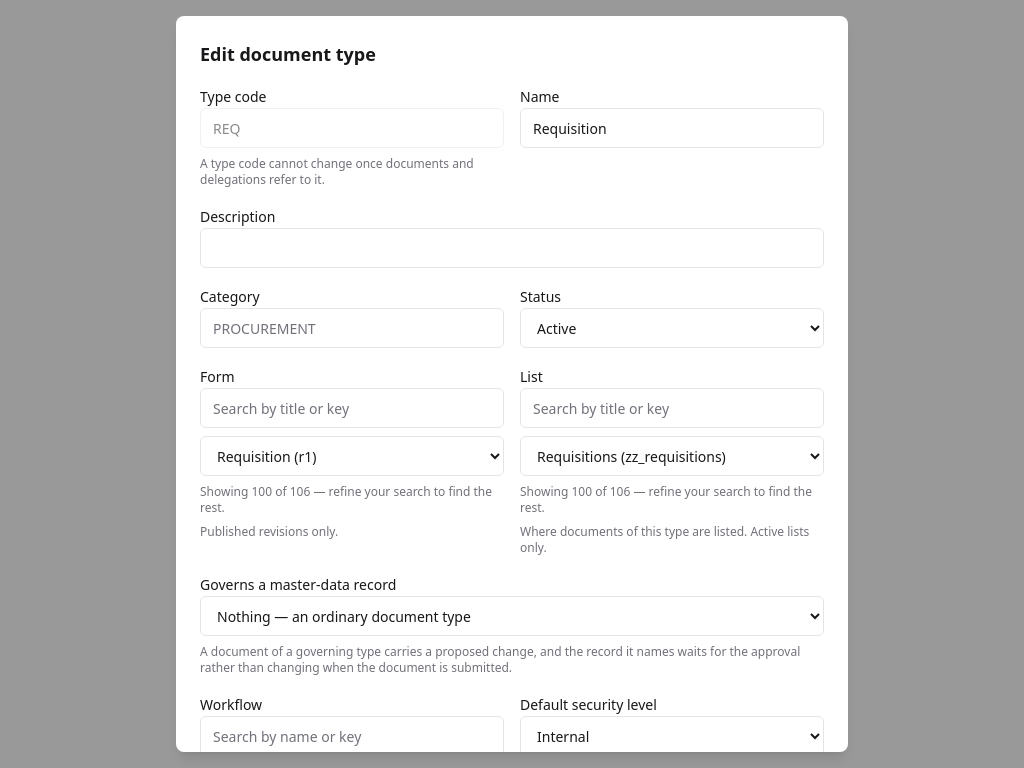
it: DocumentTypeFormDialog choosers › places a refusal of the name under the name, as before
Clear the field with test id "type-name". click: (672, 128)
box: 520,108 -> 824,148
(page scrolled)
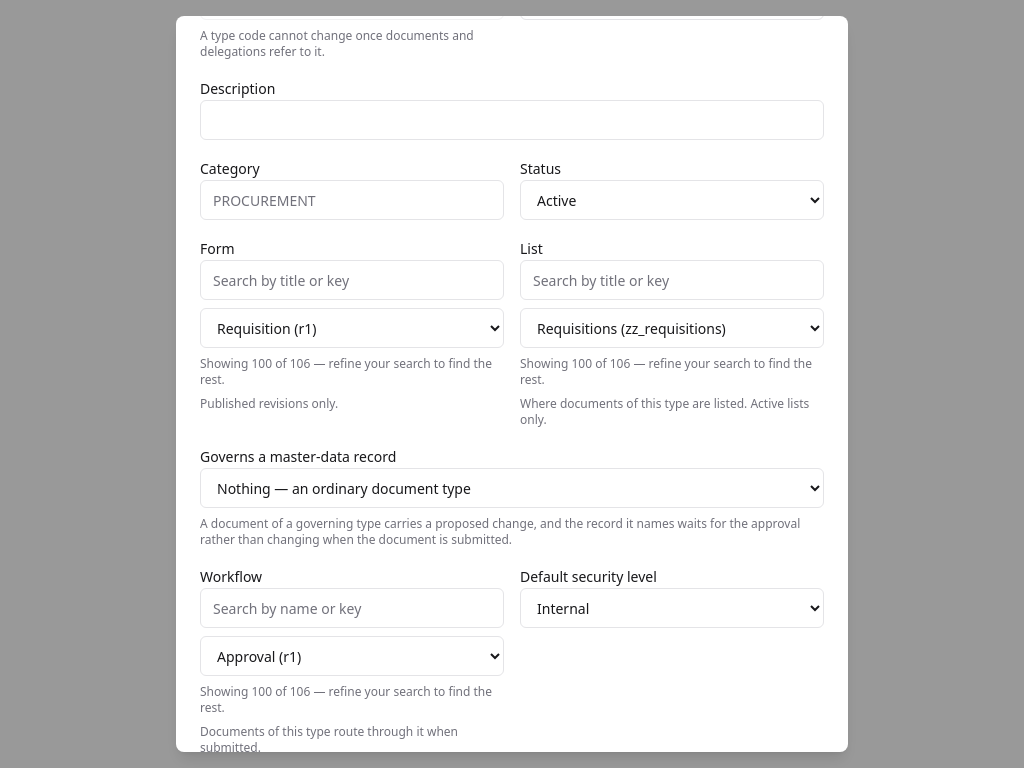
Submit the form
(page scrolled)
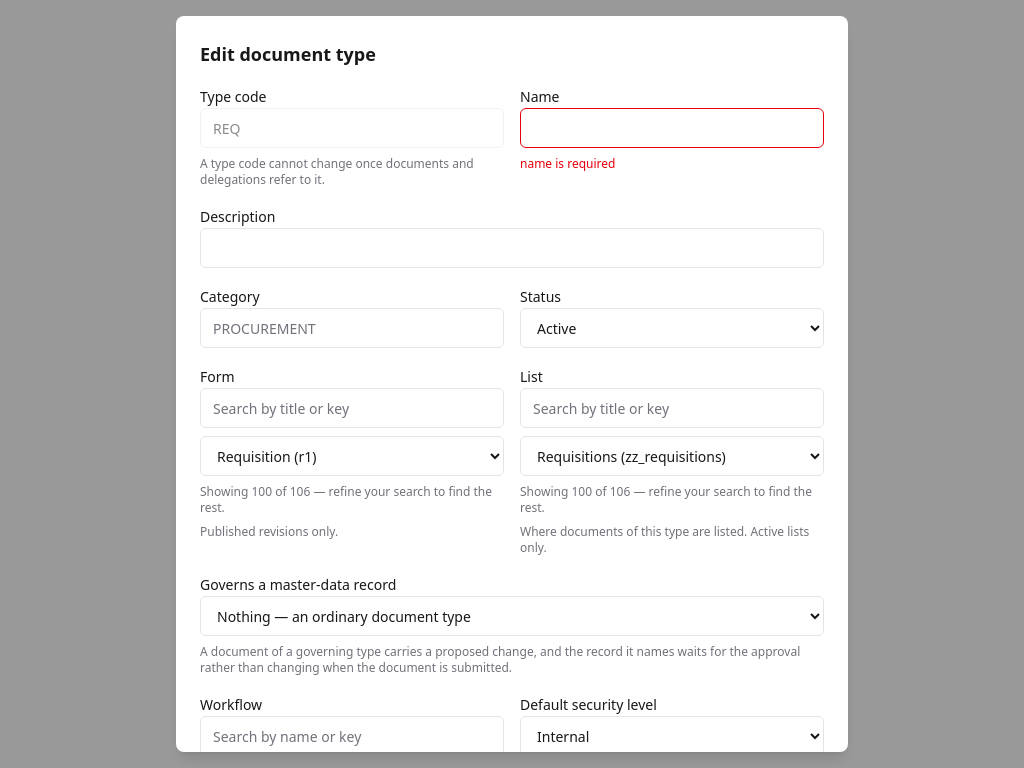
Result: the text with test id "type-name-message" reads "name is required" at 520,155 -> 616,172
